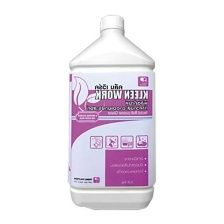cleaning_solution: (64, 12, 159, 213)
